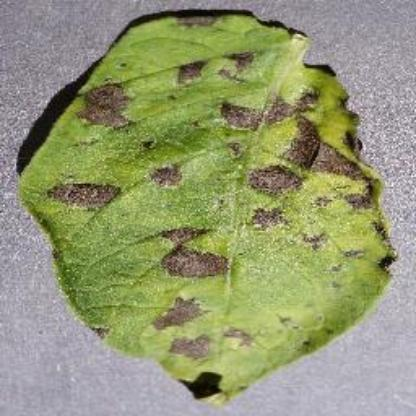Early-Blight: (19, 6, 398, 398)
